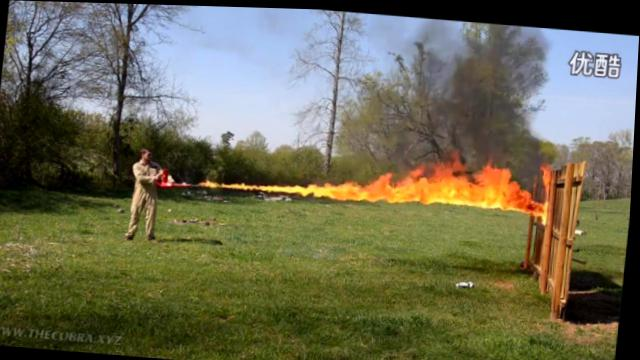fire: (422, 171, 522, 206), (323, 179, 364, 199), (395, 174, 424, 199), (363, 178, 396, 199), (473, 162, 513, 178), (437, 156, 470, 175), (221, 180, 272, 189), (299, 182, 326, 195), (520, 186, 533, 209), (375, 168, 394, 181), (274, 181, 300, 190), (407, 164, 424, 177), (531, 197, 544, 212), (543, 162, 553, 180), (542, 197, 549, 220), (199, 178, 220, 185), (545, 180, 552, 198)
